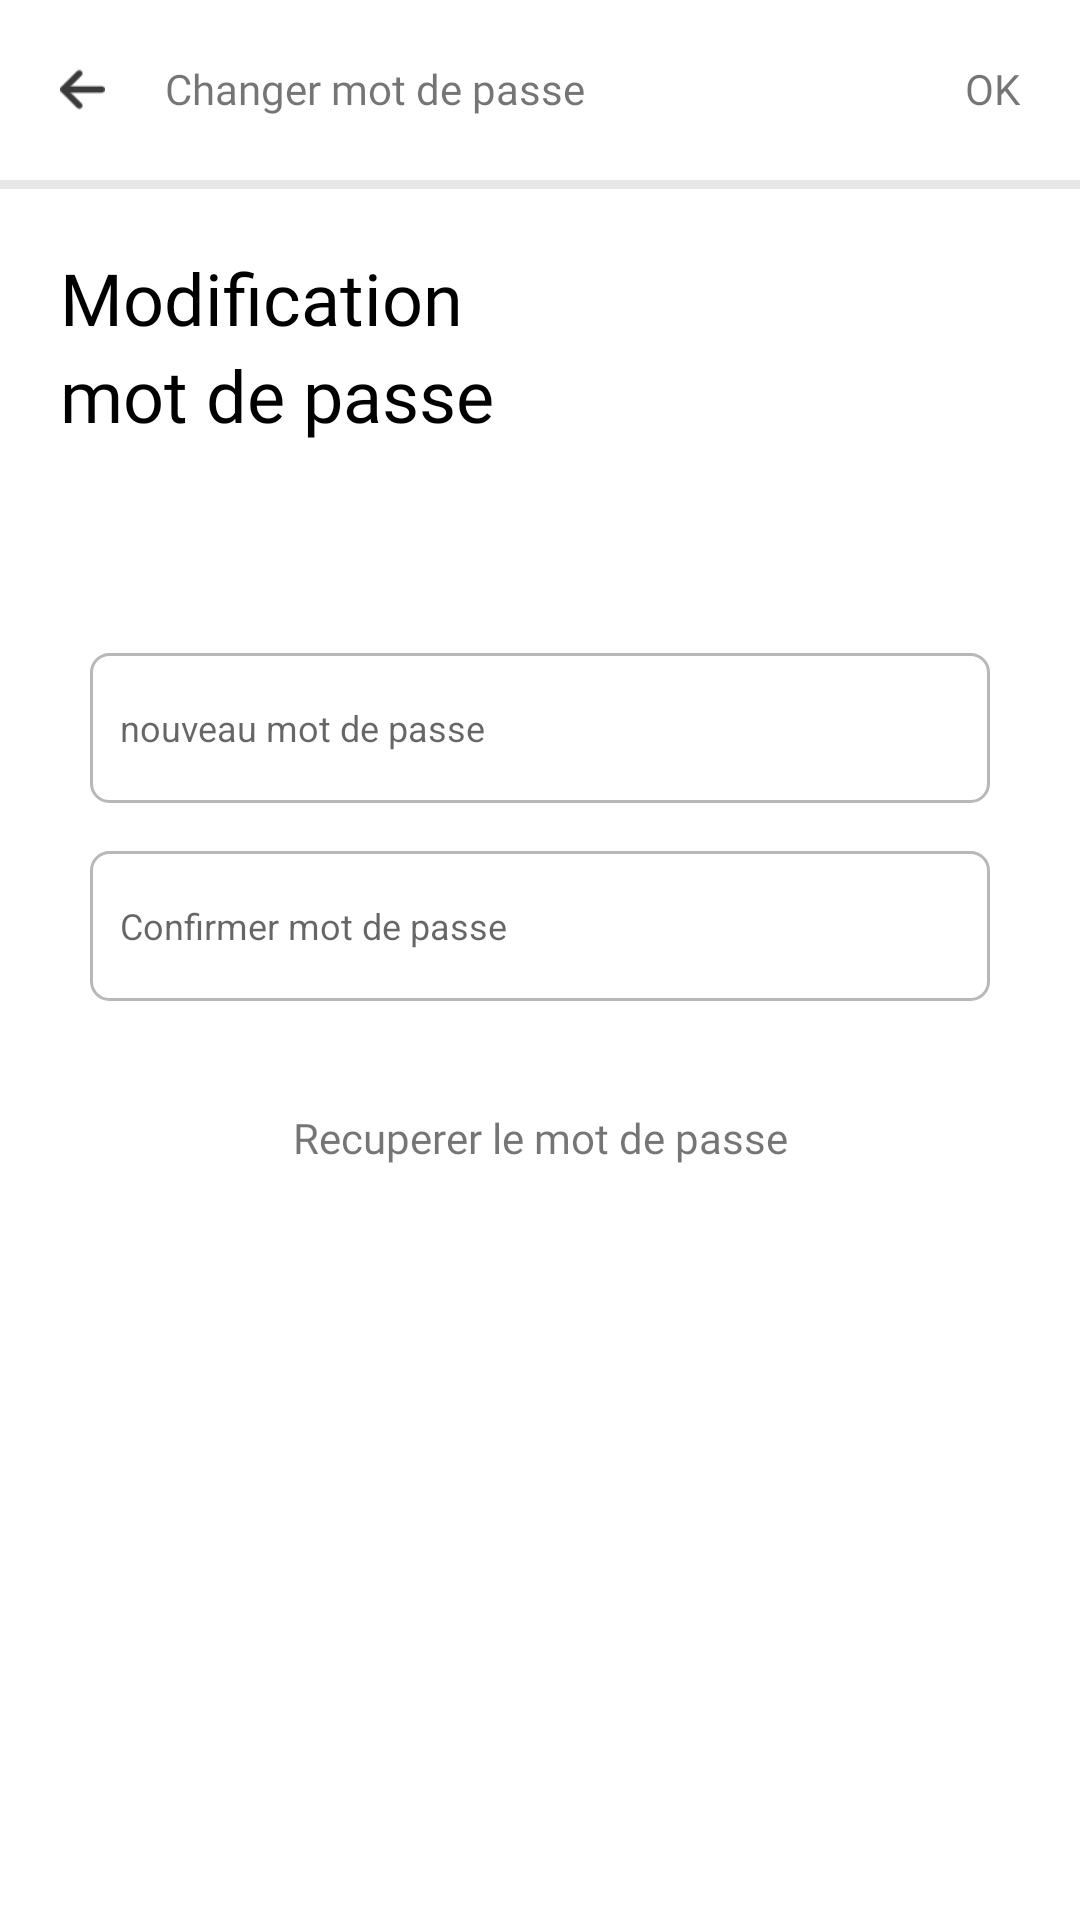

Icon click points for this 1080 x 1920 phone screenshot, format point (x, y):
arrow: point (82, 89)
